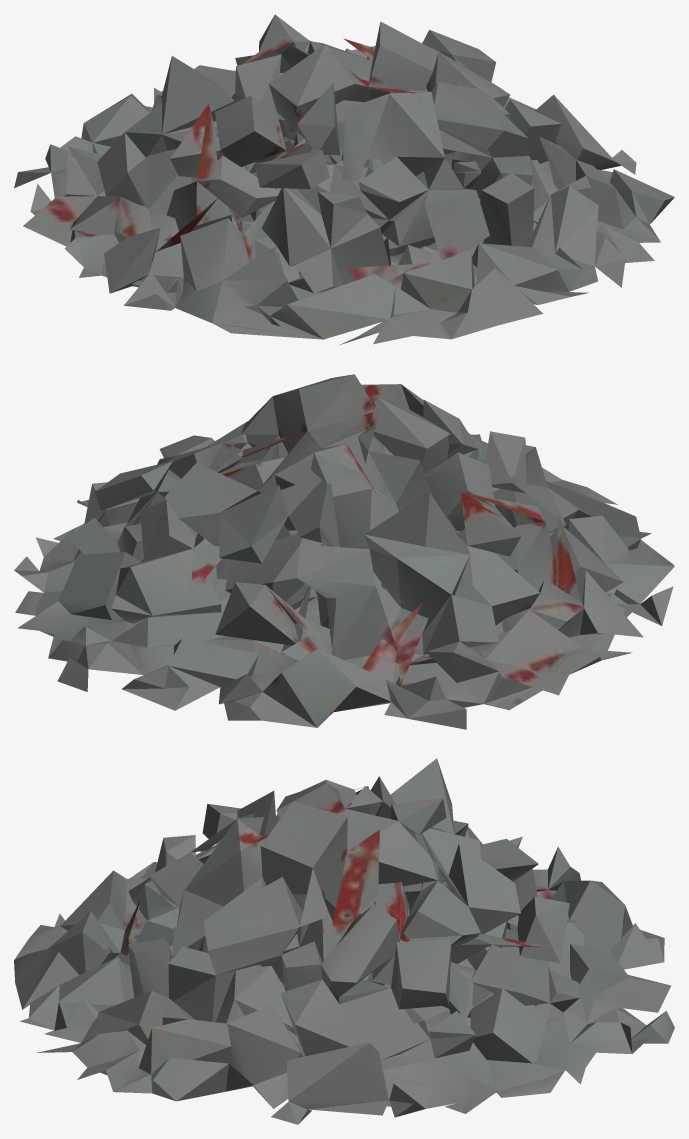
File: rubble.glb
The picture shows the model from 3 angles, top to bottom: view 1: azimuth 30°, elevation 25°; view 2: azimuth 150°, elevation 25°; view 3: azimuth 270°, elevation 25°; orthographic projection. The views are drawn at different scales.
Parts seen in each view (by area): view 1: output_unwrapped; view 2: output_unwrapped; view 3: output_unwrapped.
Part boxes in pixels (bbox=[...]): output_unwrapped: bbox=[14, 14, 674, 345]; output_unwrapped: bbox=[14, 374, 674, 729]; output_unwrapped: bbox=[14, 758, 674, 1124].
Bounding box in the file's own units: 1.83 × 0.5895 × 1.85.
1 material, 1 textured.
